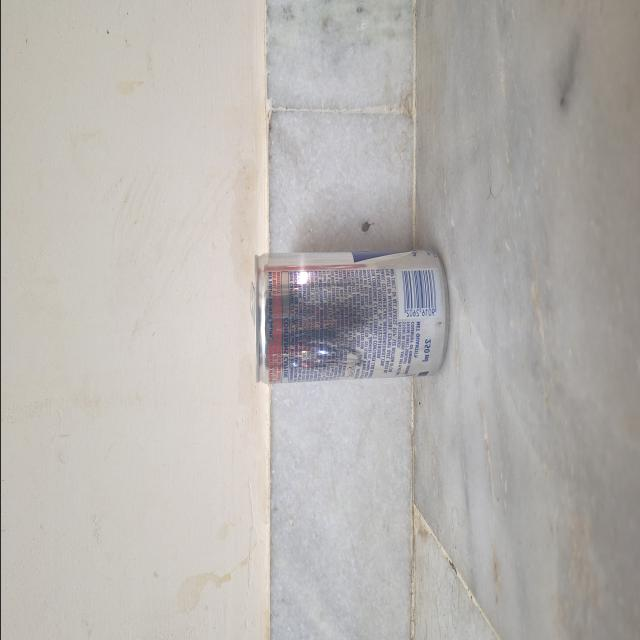Redbul: (240, 230, 444, 404)
